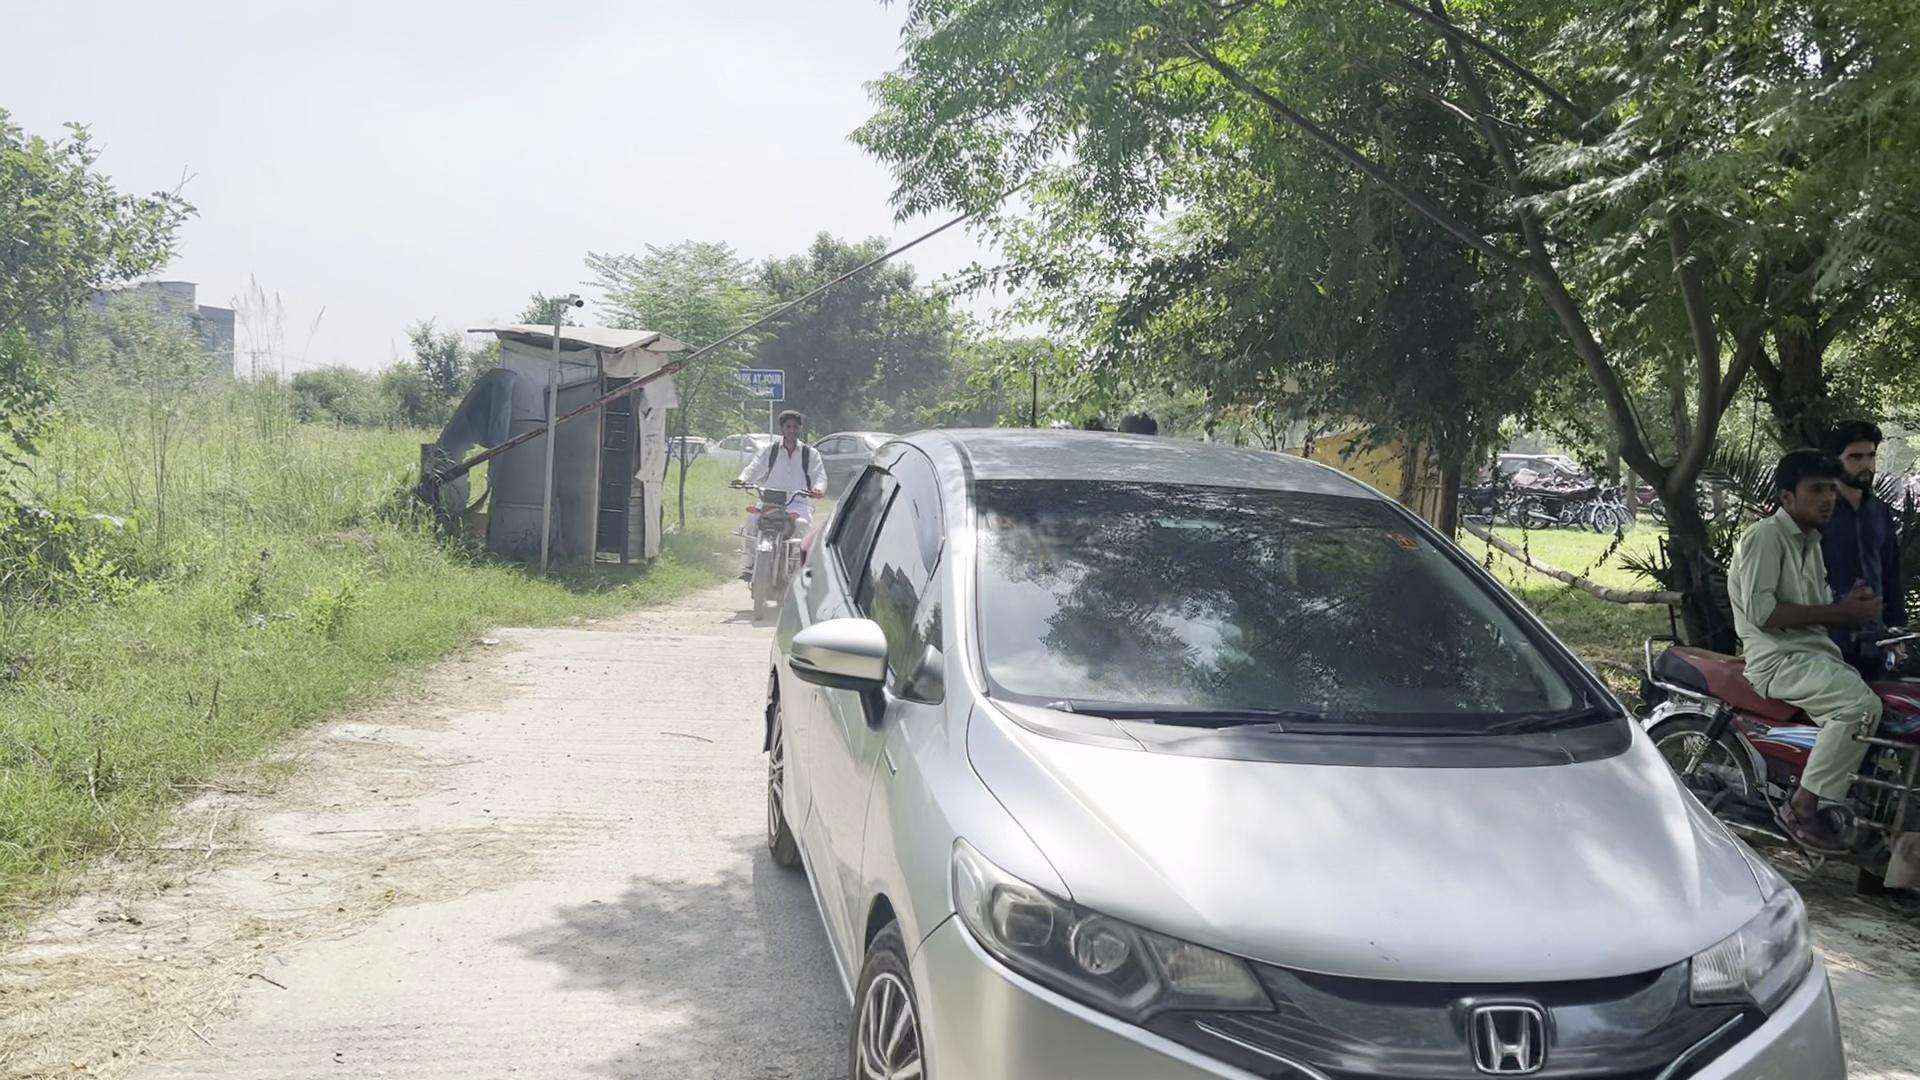windshield: (968, 469, 1621, 720)
